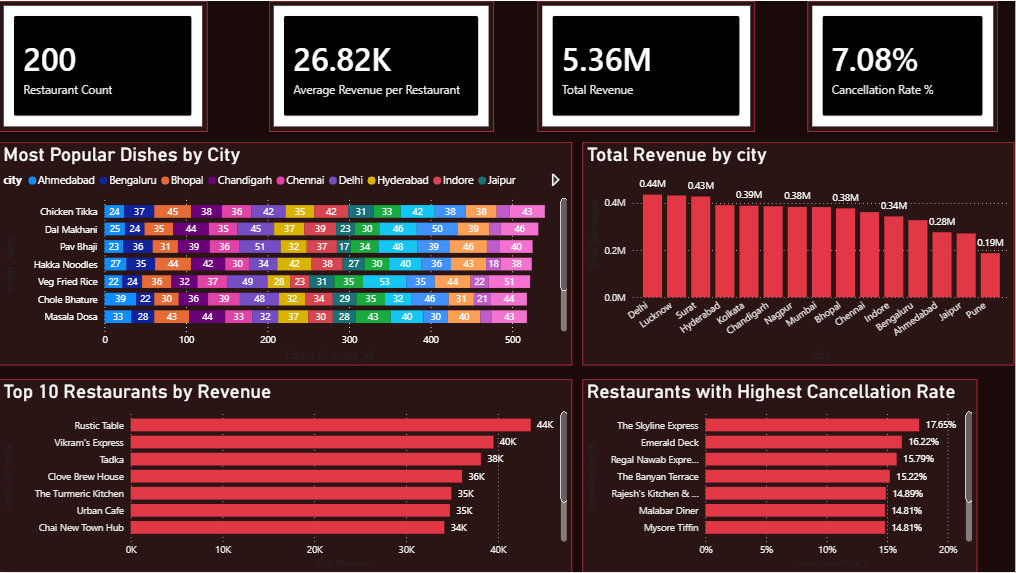

The page's visual inventory and layout, read from the dashboard file:
{"tool":"powerbi","page":{"name":"Restaurant Insights","canvas":[1280,720],"ordinal":2},"visuals":[{"type":"clusteredBarChart","title":"Top 10 Restaurants by Revenue","fields":{"Category":["zomato_db restaurants.restaurant_name"],"Y":["zomato_db customers.Total Revenue"]},"box":[43.5,476.2,678.4,243.8],"z":0},{"type":"clusteredColumnChart","fields":{"Y":["zomato_db customers.Total Revenue"],"Category":["zomato_db restaurants.city"]},"box":[805,177.6,474.3,298.6],"z":1000},{"type":"clusteredBarChart","title":"Restaurants with Highest Cancellation Rate","fields":{"Category":["zomato_db restaurants.restaurant_name"],"Y":["zomato_db customers.Cancellation Rate %"]},"box":[829.6,476.2,402.5,243.8],"z":2000},{"type":"cardVisual","fields":{"Data":["zomato_db restaurants.Restaurant Count"]},"box":[0,0,203.4,163.9],"z":3000},{"type":"cardVisual","fields":{"Data":["zomato_db restaurants.Average Revenue per Restaurant"]},"box":[264.6,0,323.8,163.9],"z":4000},{"type":"cardVisual","fields":{"Data":["zomato_db customers.Total Revenue"]},"box":[649.5,0,203.4,163.9],"z":5000},{"type":"cardVisual","fields":{"Data":["zomato_db customers.Cancellation Rate %"]},"box":[914.1,0,203.4,163.9],"z":6000},{"type":"barChart","title":"Most Popular Dishes by City","fields":{"Category":["zomato_db orders.order_item"],"Y":["CountNonNull(zomato_db orders.order_id)"],"Series":["zomato_db restaurants.city"]},"box":[0,177.7,722.6,298.1],"z":7000}]}

Visuals, with their boxes in screenshot pixels (x1, y1, x2, y2), scaled from the page's 1280x720 canvas onto the 1016x573 screenshot:
"Top 10 Restaurants by Revenue" clusteredBarChart: (35, 379, 573, 572)
clusteredColumnChart - zomato_db customers.Total Revenue x zomato_db restaurants.city: (639, 141, 1015, 379)
"Restaurants with Highest Cancellation Rate" clusteredBarChart: (658, 379, 978, 572)
cardVisual - zomato_db restaurants.Restaurant Count: (0, 0, 161, 130)
cardVisual - zomato_db restaurants.Average Revenue per Restaurant: (210, 0, 467, 130)
cardVisual - zomato_db customers.Total Revenue: (516, 0, 677, 130)
cardVisual - zomato_db customers.Cancellation Rate %: (726, 0, 887, 130)
"Most Popular Dishes by City" barChart: (0, 141, 574, 379)
